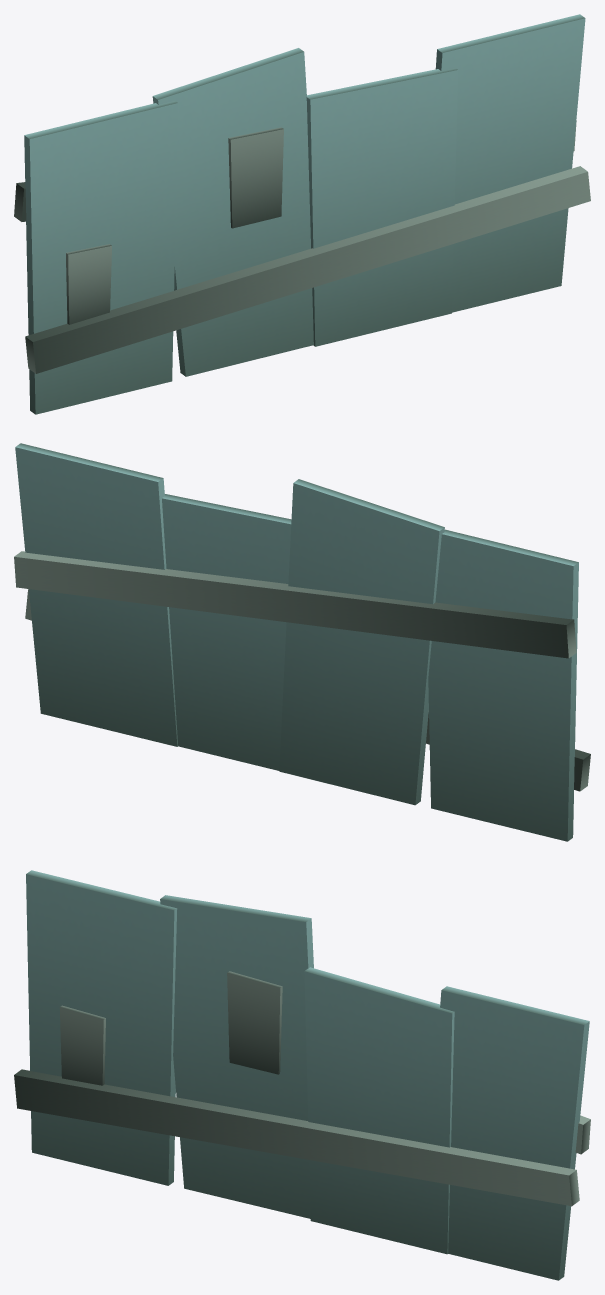
The model's file is fence_001.fbx.
3 views of the same model, one above another, from view 1: azimuth 30°, elevation 25°; view 2: azimuth 150°, elevation 25°; view 3: azimuth 330°, elevation 25° (orthographic).
Parts seen in each view (by area): view 1: fence.001; view 2: fence.001; view 3: fence.001.
Boxes of the visible parts, x1,y1,x2,y2 form: fence.001: (14, 14, 590, 414); fence.001: (14, 443, 590, 841); fence.001: (14, 870, 590, 1280).
Bounding box in the file's own units: 365 × 183 × 23.14.
